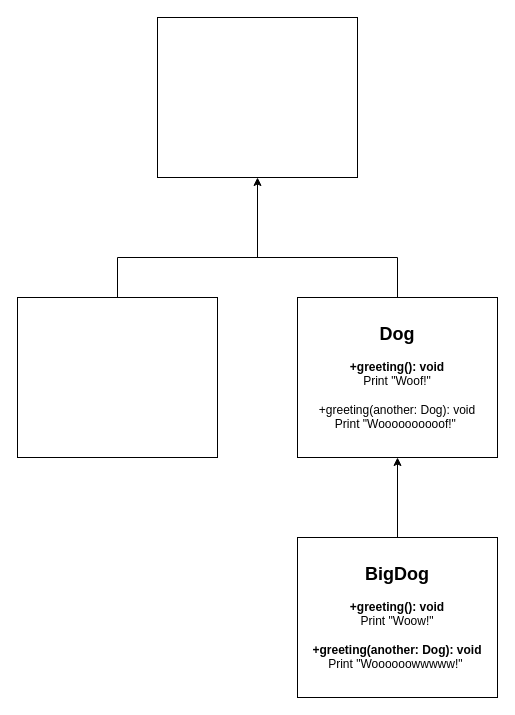
Some shapes in this 515 by 715 pixel diagram are drawn without their labels. Here are the shapes that lost their labels. From the top down, the box of each, then its label:
(156, 16, 358, 178): Animal << abstract >> +greeting(): void
(16, 296, 218, 458): Cat +greeting(): void Print "Meow"
